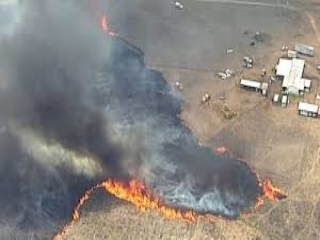fire: (89, 175, 187, 221), (258, 176, 286, 200)
smoke: (6, 13, 189, 170)
